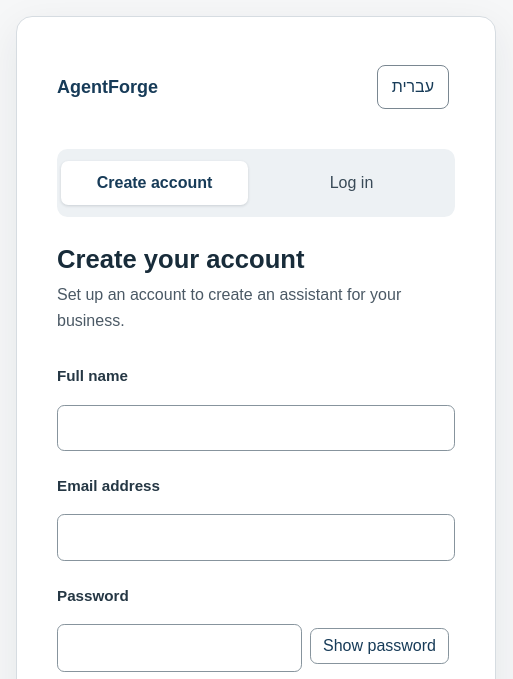
Test case: Stage 1 authentication › renders the authentication screen in Hebrew and switches document direction
Click the button with aria-label "Language".
click(413, 87)  # box top-left (377, 65), bottom-right (449, 109)
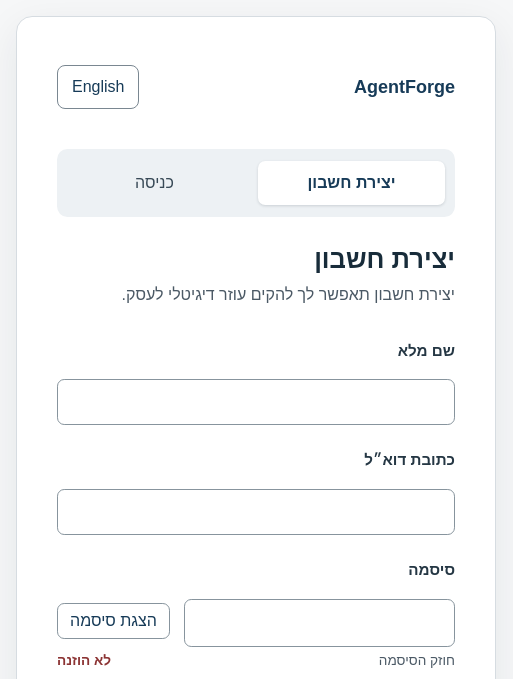
Expected: the heading "יצירת חשבון" is shown, top-left (314, 245), bottom-right (455, 273)
